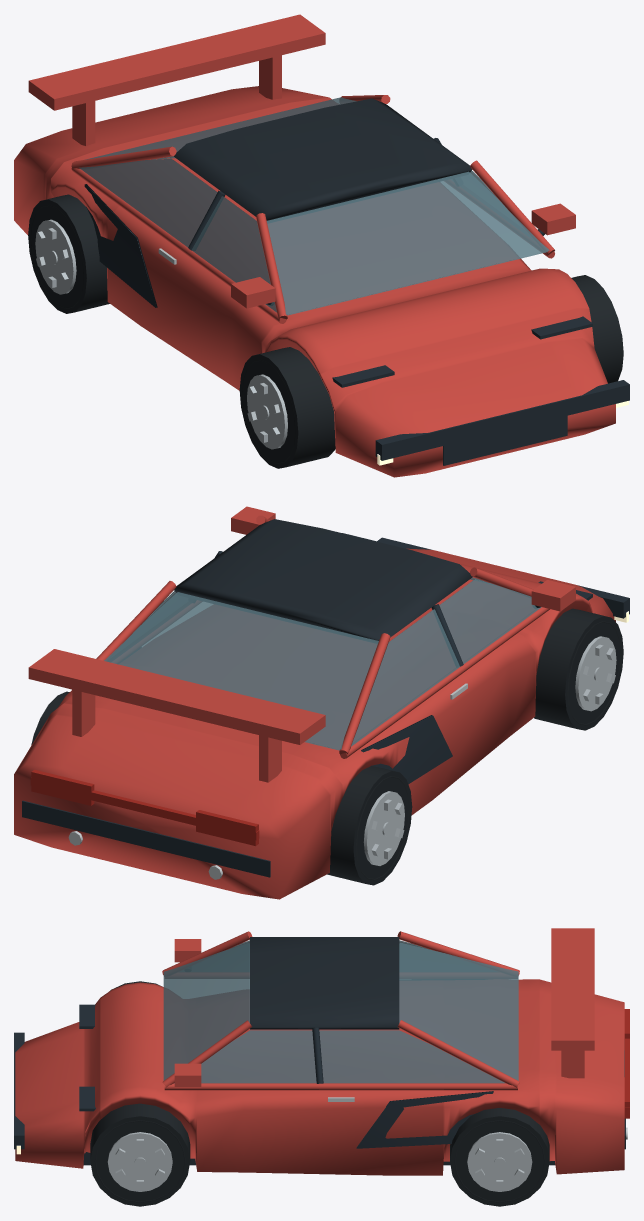
The model's file is midori.glb.
3 views of the same model, one above another, from view 1: azimuth 30°, elevation 25°; view 2: azimuth 150°, elevation 25°; view 3: azimuth 270°, elevation 25° (orthographic). The views are drawn at different scales.
Parts seen in each view (by area): view 1: exterior-paint, windows, secondary-paint, black-trim, tire-front-left, tire-rear-left, tire-front-right, rim-front-left, rim-rear-left; view 2: exterior-paint, windows, secondary-paint, black-trim, tire-front-left, tire-rear-left, taillights, rim-front-left, rim-rear-left; view 3: exterior-paint, windows, secondary-paint, tire-front-right, tire-rear-right, black-trim, rim-rear-right, rim-front-right, taillights.
Boxes of the visible parts, left/top/right/bottom form: exterior-paint: left=14, top=14, right=615, bottom=477; windows: left=79, top=97, right=549, bottom=315; secondary-paint: left=173, top=98, right=472, bottom=222; black-trim: left=84, top=138, right=629, bottom=465; tire-front-left: left=239, top=347, right=335, bottom=468; tire-rear-left: left=28, top=194, right=109, bottom=313; tire-front-right: left=571, top=275, right=623, bottom=383; rim-front-left: left=247, top=374, right=287, bottom=449; rim-rear-left: left=35, top=219, right=76, bottom=294; exterior-paint: left=14, top=506, right=615, bottom=899; windows: left=104, top=577, right=541, bottom=750; secondary-paint: left=174, top=519, right=472, bottom=641; black-trim: left=22, top=533, right=629, bottom=877; tire-front-left: left=534, top=608, right=623, bottom=730; tire-rear-left: left=327, top=766, right=412, bottom=885; taillights: left=30, top=769, right=259, bottom=846; rim-front-left: left=575, top=636, right=616, bottom=711; rim-rear-left: left=363, top=791, right=404, bottom=865; exterior-paint: left=15, top=928, right=624, bottom=1175; windows: left=163, top=940, right=518, bottom=1083; secondary-paint: left=250, top=937, right=399, bottom=1029; tire-front-right: left=90, top=1103, right=190, bottom=1206; tire-rear-right: left=450, top=1108, right=549, bottom=1206; black-trim: left=14, top=979, right=625, bottom=1165; rim-rear-right: left=467, top=1132, right=532, bottom=1191; rim-front-right: left=107, top=1132, right=172, bottom=1191; taillights: left=624, top=1009, right=629, bottom=1118.
Size of the model in its own units: 2 by 1.1 by 3.7.
